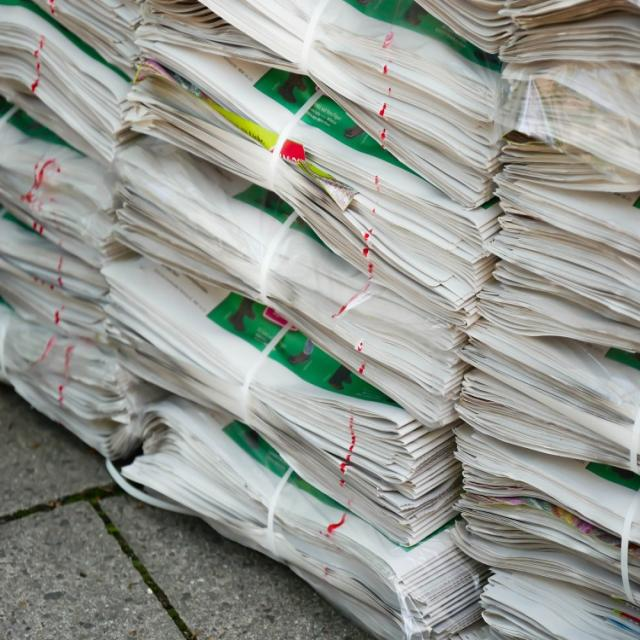Kertas: (14, 24, 619, 611)
